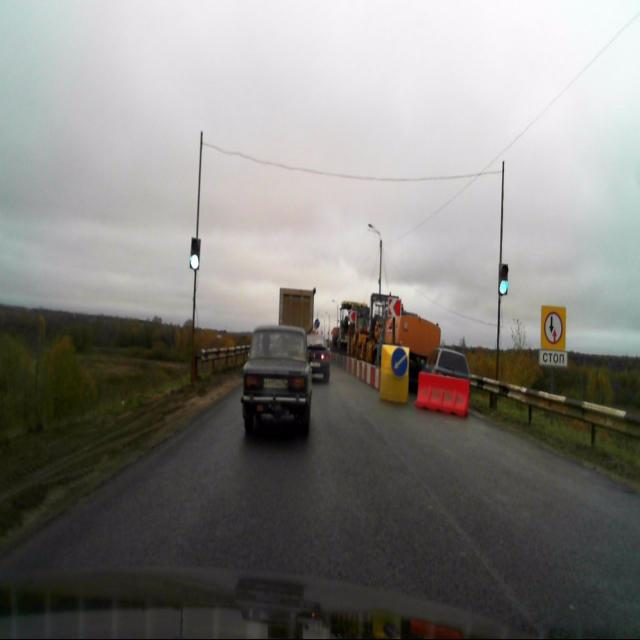road sign: (538, 351, 567, 368)
